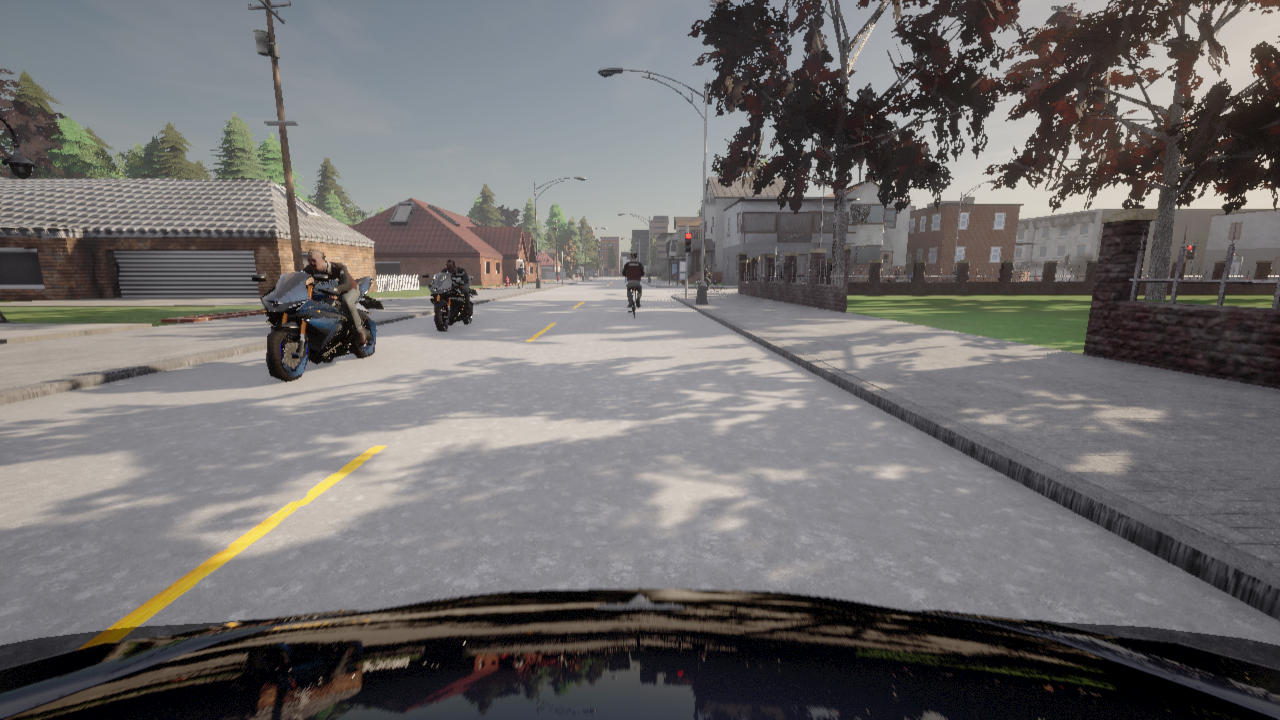cyclist: (0, 588, 1279, 719), (251, 271, 384, 381), (422, 272, 477, 331), (695, 276, 722, 290), (628, 288, 635, 317), (898, 278, 903, 280), (625, 278, 627, 282), (1142, 277, 1146, 278), (945, 279, 946, 280)
pedestrian: (517, 264, 525, 288), (1268, 266, 1271, 275)
